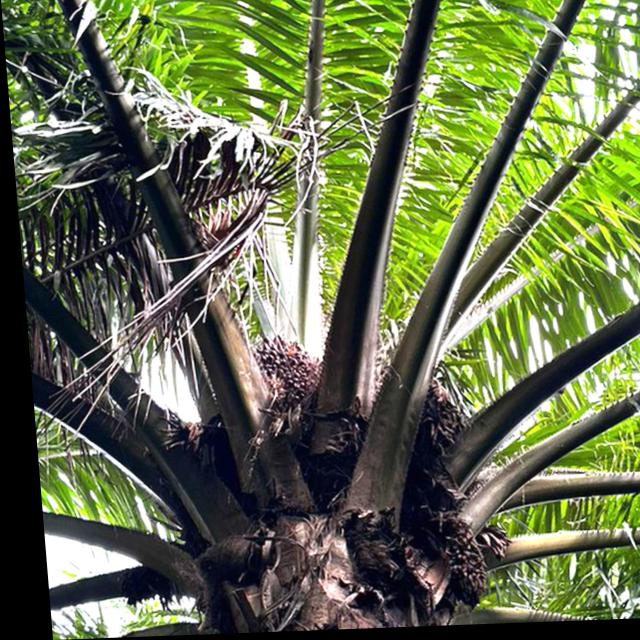ripe: (245, 330, 323, 416)
